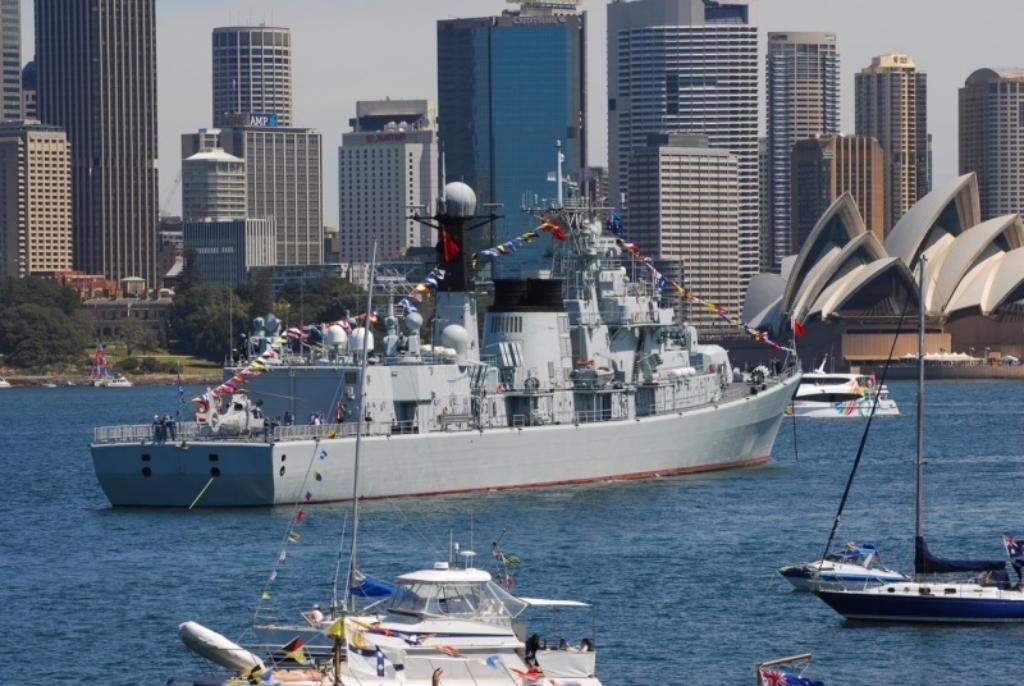PassengerShip: (182, 570, 630, 686), (778, 364, 902, 420)
